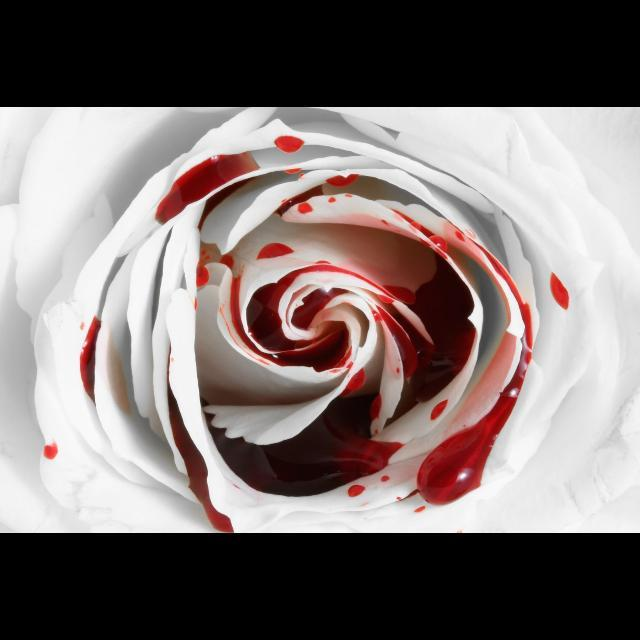blood: (206, 395, 402, 497), (418, 365, 525, 506), (392, 253, 476, 402), (167, 356, 234, 534), (155, 151, 259, 223), (474, 242, 534, 350), (247, 273, 296, 352), (273, 330, 352, 372), (314, 264, 395, 303), (394, 209, 448, 252), (230, 276, 258, 352), (79, 317, 101, 403), (273, 185, 323, 216), (551, 273, 570, 310), (257, 242, 294, 259), (384, 285, 416, 304), (274, 135, 304, 152), (346, 368, 366, 391), (326, 173, 359, 186), (431, 400, 448, 420), (196, 262, 209, 287), (42, 441, 57, 461), (220, 254, 234, 269), (348, 486, 365, 498), (284, 167, 302, 173), (382, 476, 391, 483)
